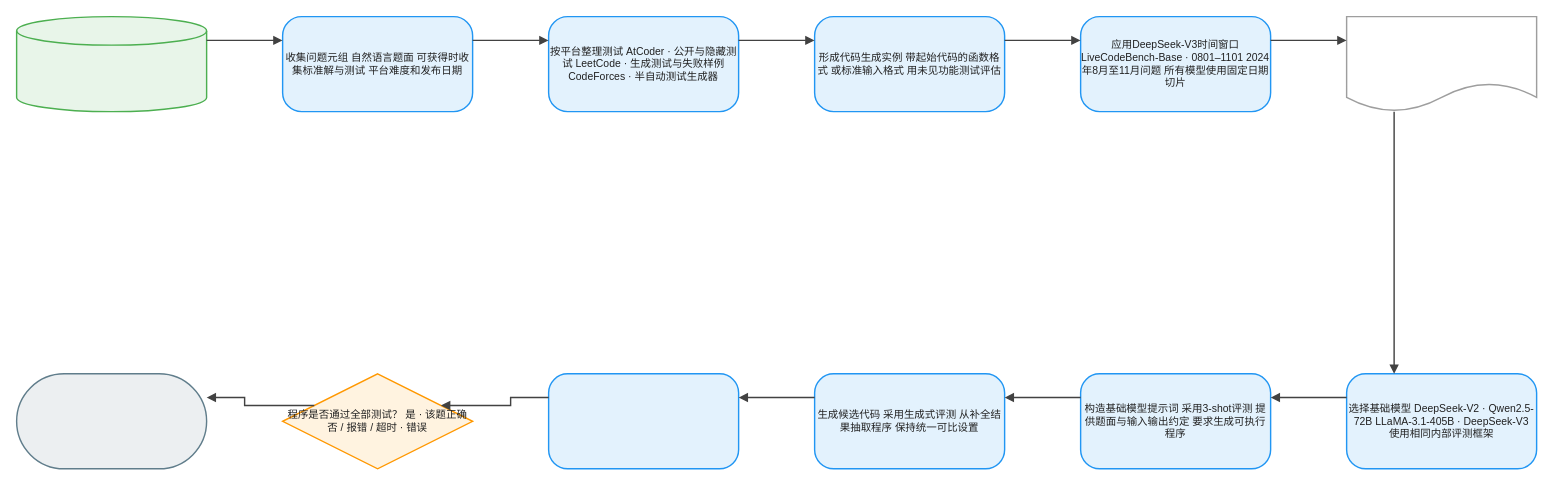
Image size: 1554x486. Some labels were removed from this diagram. Here are the shapes that lost their labels. From the top down, the centre of each, then its label:
At (x=111, y=63): "从公开编程竞赛出发 LeetCode · AtCoder · CodeForces 仅使用公开可见内容 保留每场竞赛日期".
At (x=1441, y=63): "将“Base”视为评测标签 不是独立LCB发布版本 源数据仍来自LiveCodeBench 报告协议来自DeepSeek-V3".
At (x=111, y=421): "报告LiveCodeBench-Base Pass@1 统计成功解题比例 在同一切片比较基础模型 与聊天模型LCB结果分开".
At (x=643, y=421): "在基准测试上执行 编译或运行候选程序 将输出与标准结果比较 强制按功能正确性判定".
